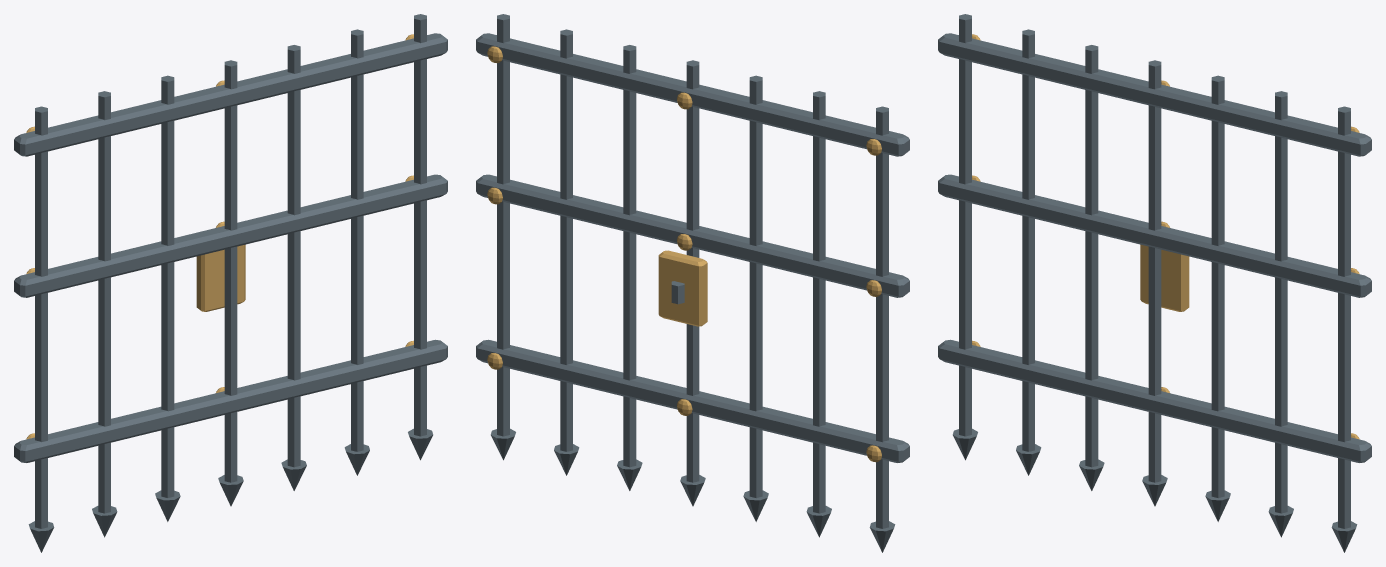
The picture shows the model from 3 angles, left to right: view 1: azimuth 30°, elevation 25°; view 2: azimuth 150°, elevation 25°; view 3: azimuth 330°, elevation 25°; orthographic projection.
Parts seen in each view (by area): view 1: body; view 2: body; view 3: body.
Part boxes in pixels (x1,y1,x2,y2): body: (14, 14, 447, 552); body: (476, 14, 909, 552); body: (938, 14, 1371, 552).
Size of the model in its own units: 2.98 by 2.95 by 0.299.
